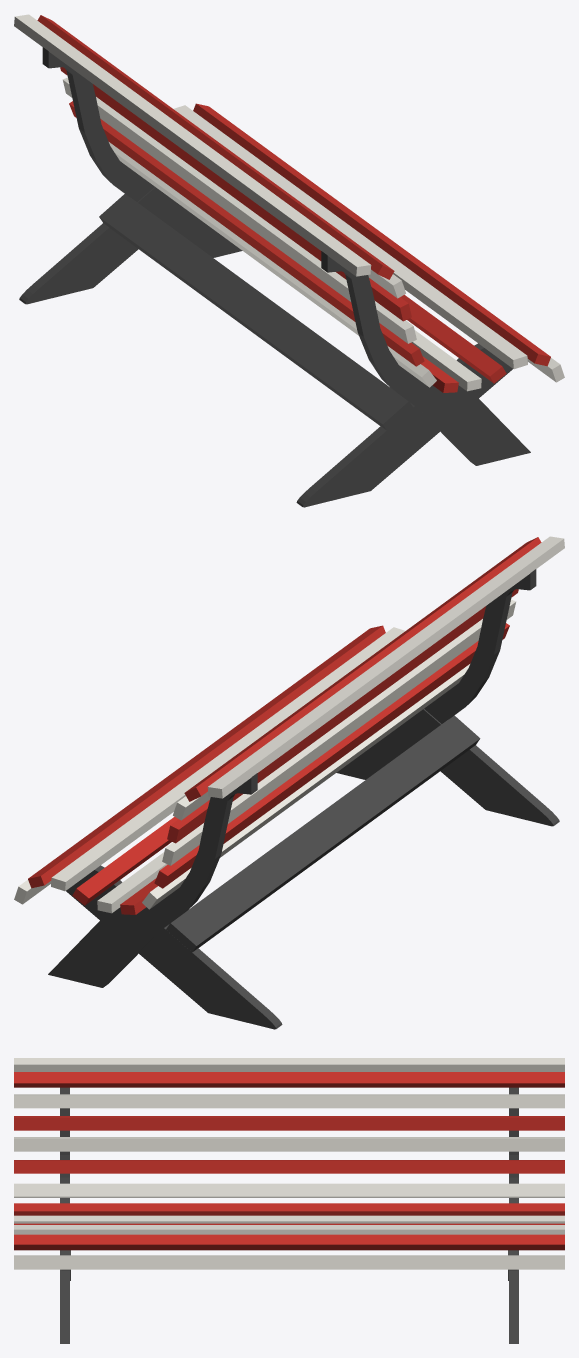
Rendered from lavicka_parkova.glb.
3 renders of one model, top to bottom at view 1: azimuth 30°, elevation 25°; view 2: azimuth 150°, elevation 25°; view 3: azimuth 270°, elevation 25°, orthographic. The views are drawn at different scales.
Parts seen in each view (by area): view 1: lavicka_parkova; view 2: lavicka_parkova; view 3: lavicka_parkova.
Part boxes in pixels (x1=…): lavicka_parkova: x1=14, y1=14, x2=564, y2=507; lavicka_parkova: x1=14, y1=536, x2=564, y2=1029; lavicka_parkova: x1=14, y1=1058, x2=564, y2=1343.
Bounding box in the file's own units: 0.9413 × 0.9894 × 2.4.
1 material, 1 textured.
